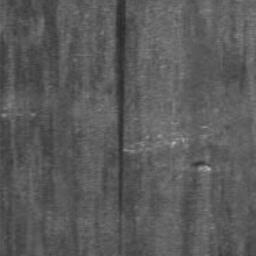Scratches: (114, 0, 128, 255)
